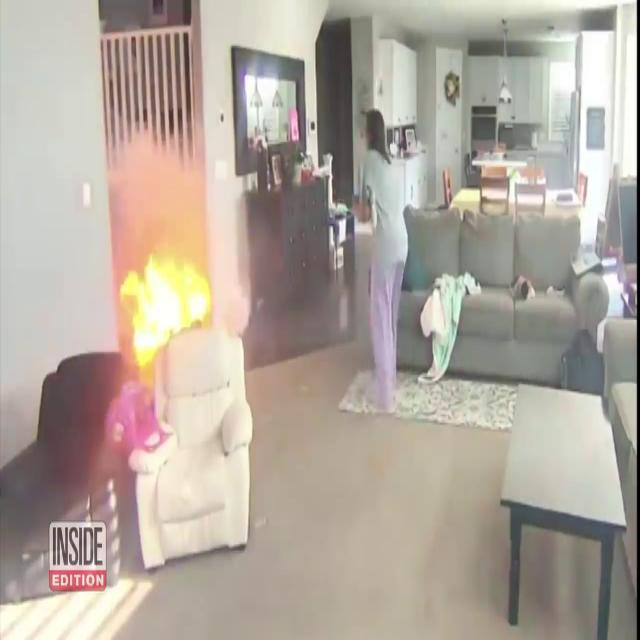Fire: (119, 230, 214, 363)
